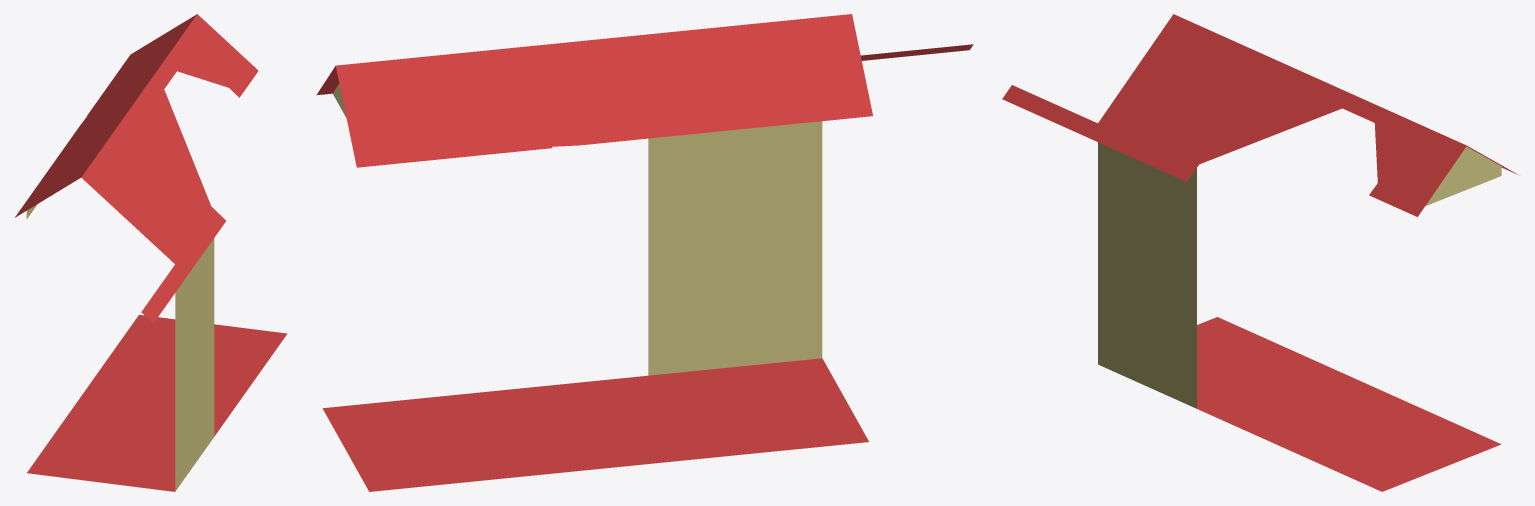
The picture shows the model from 3 angles, left to right: view 1: azimuth 30°, elevation 25°; view 2: azimuth 150°, elevation 25°; view 3: azimuth 270°, elevation 25°; orthographic projection. The views are drawn at different scales.
Bounding box in the file's own units: 15.62 × 19.14 × 13.04.
